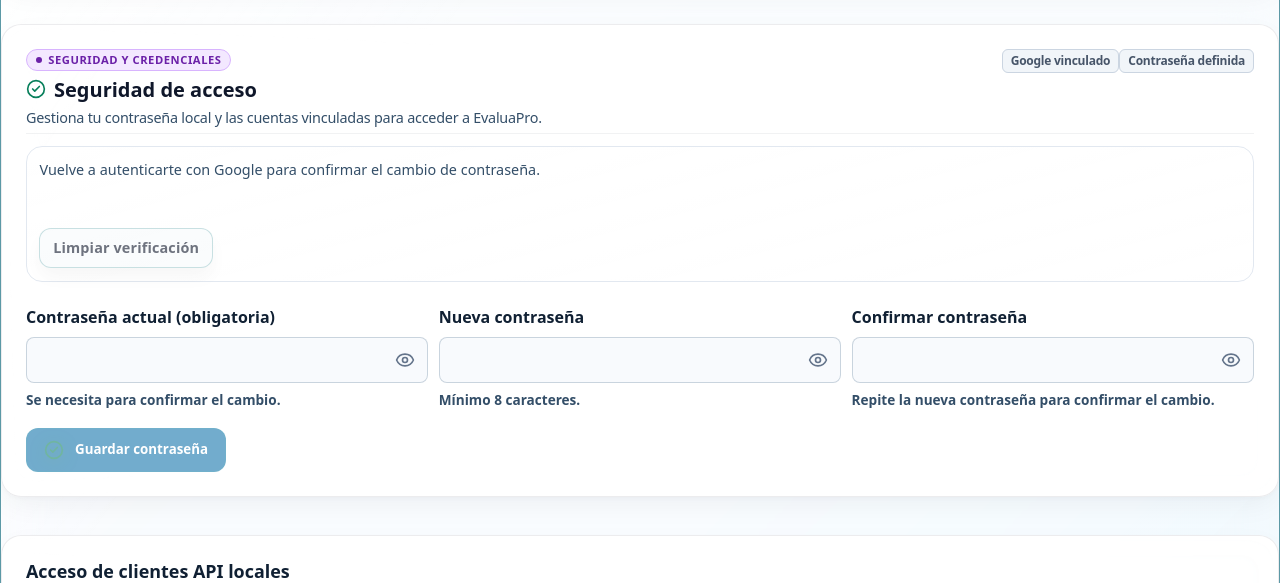
Test: SeccionCuenta › permite cambiar contraseña tras validar contraseña actual y coincidencia de 8+ caracteres
(page scrolled)
Expected: the button "Guardar contraseña" is disabled, [26,428,226,472]
Expected: the text "Se necesita para confirmar el cambio." is shown, [26,390,280,410]
In the password field labelled "Contraseña actual (obligatoria)": (227, 360) [26,337,428,383], type "PasswordAnterior123"
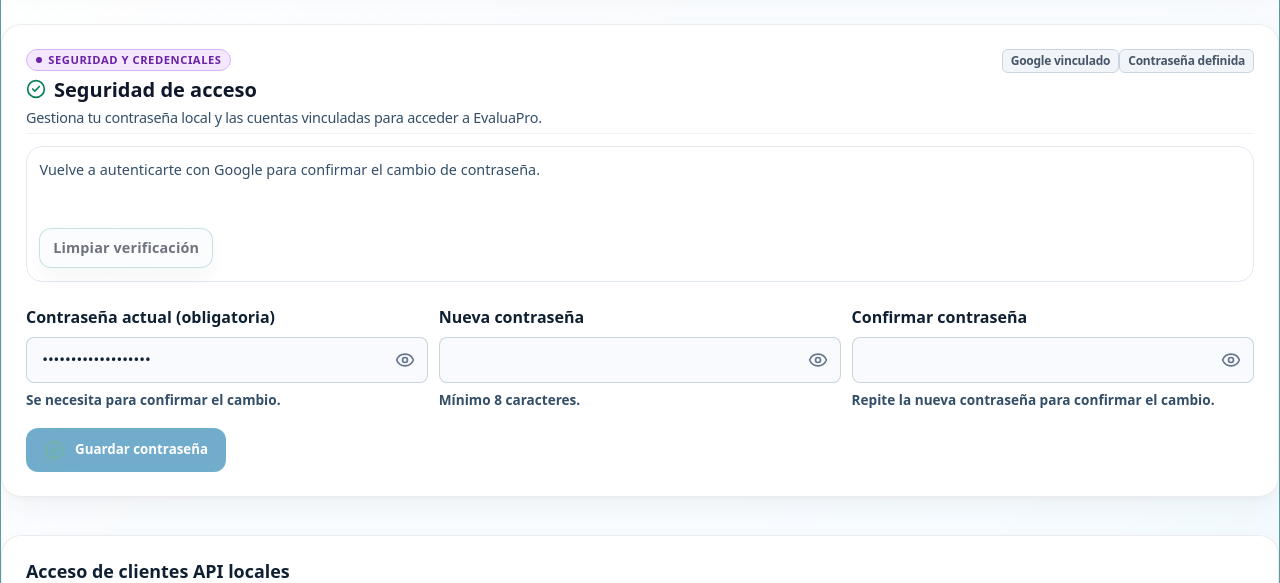
In the password field labelled "Nueva contraseña": (640, 360) [439,337,841,383], type "corta"
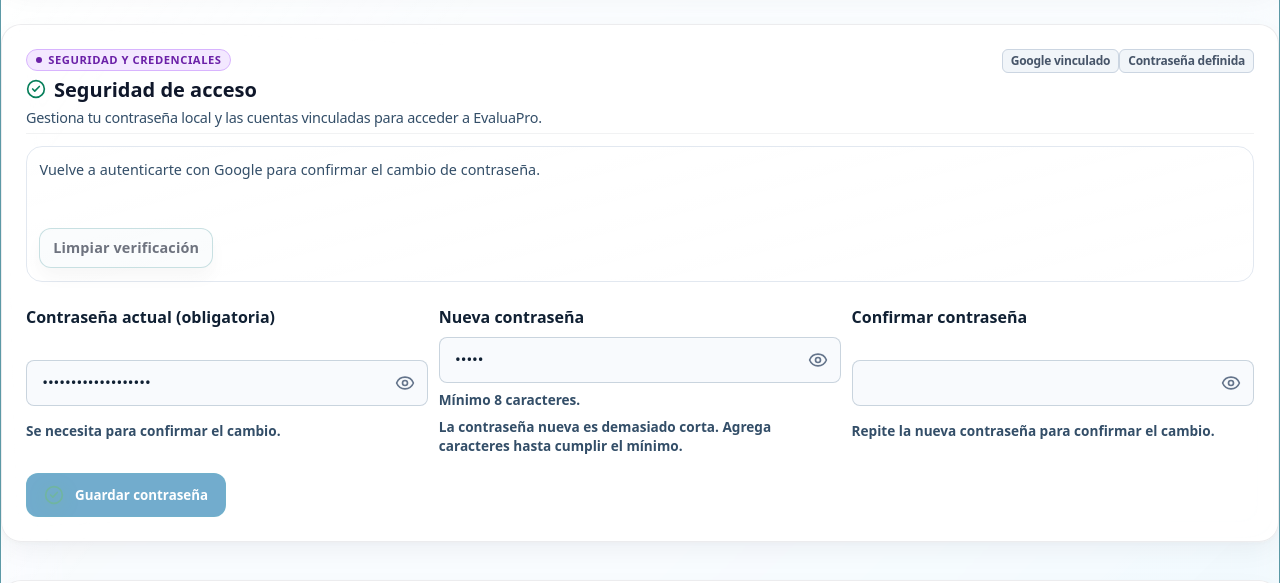
Expected: the button "Guardar contraseña" is disabled, [26,473,226,517]
Result: the password field labelled "Nueva contraseña" is marked as invalid
In the password field labelled "Nueva contraseña": (640, 360) [439,337,841,383], type "NuevaClaveSegura2026"
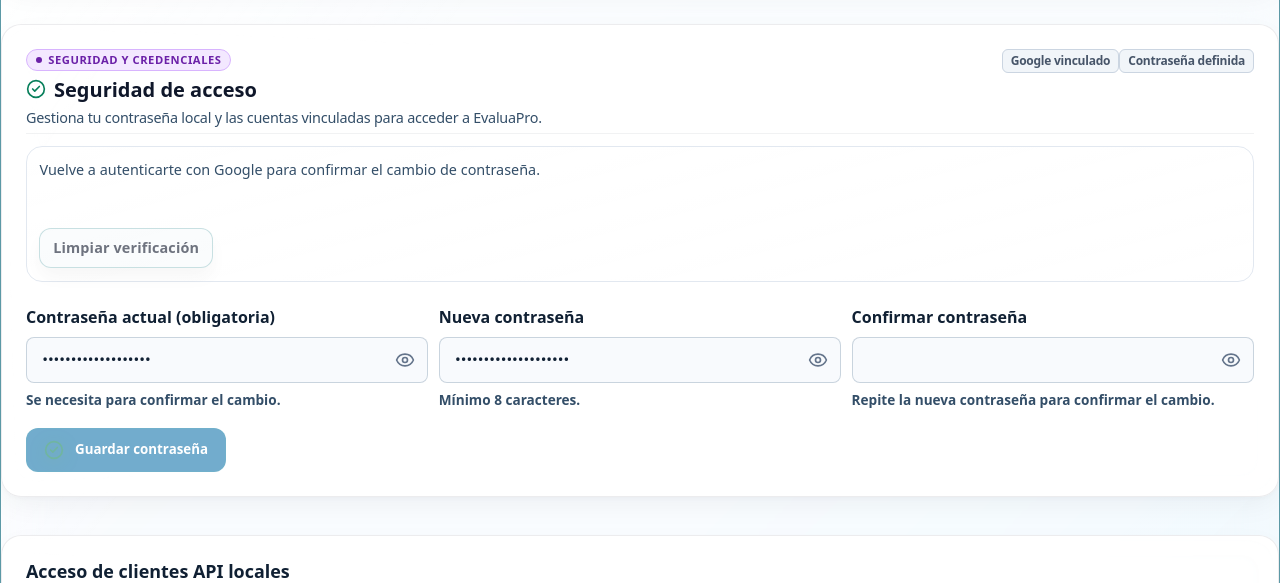
Result: the password field labelled "Nueva contraseña" does not have attribute aria-invalid="true" at [439,337,841,383]
In the password field labelled "Confirmar contraseña": (1053, 360) [852,337,1254,383], type "Clave distinta de prueba"
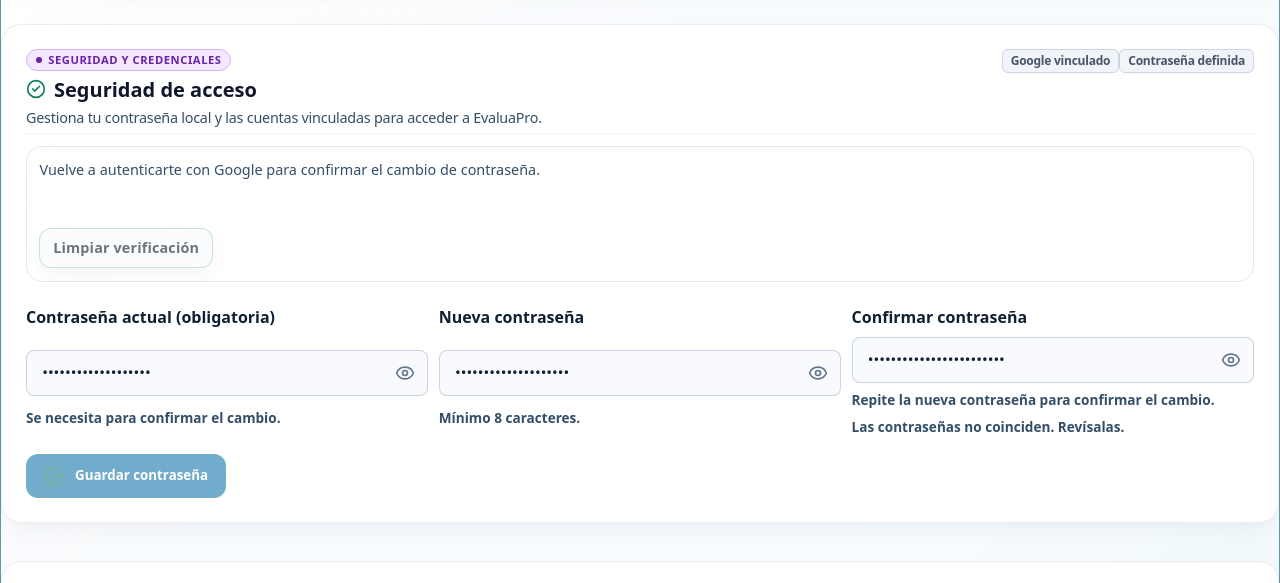
Expected: the text "Repite la nueva contraseña para confirmar el cambio." is shown, [852,390,1254,410]
Result: the text "Las contraseñas no coinciden. Revísalas." is shown at [852,417,1124,436]
In the password field labelled "Confirmar contraseña": (1053, 360) [852,337,1254,383], type "NuevaClaveSegura2026"
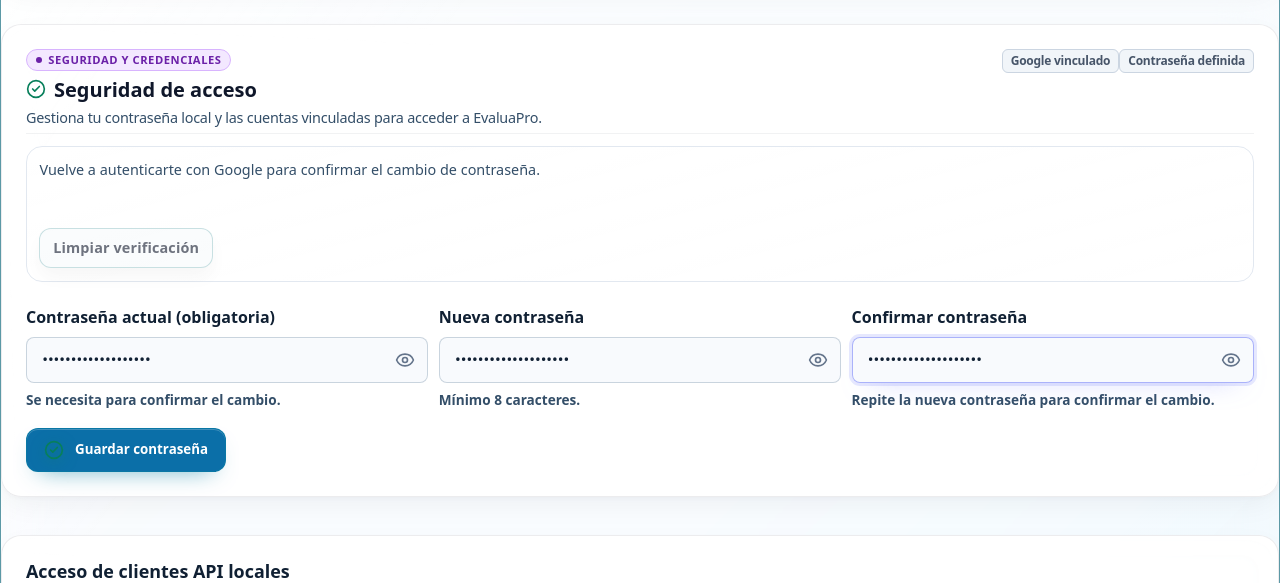
Expected: the text "Repite la nueva contraseña para confirmar el cambio." is shown, [852,390,1254,410]
Result: the button "Guardar contraseña" is enabled at [26,428,226,472]
Press Enter
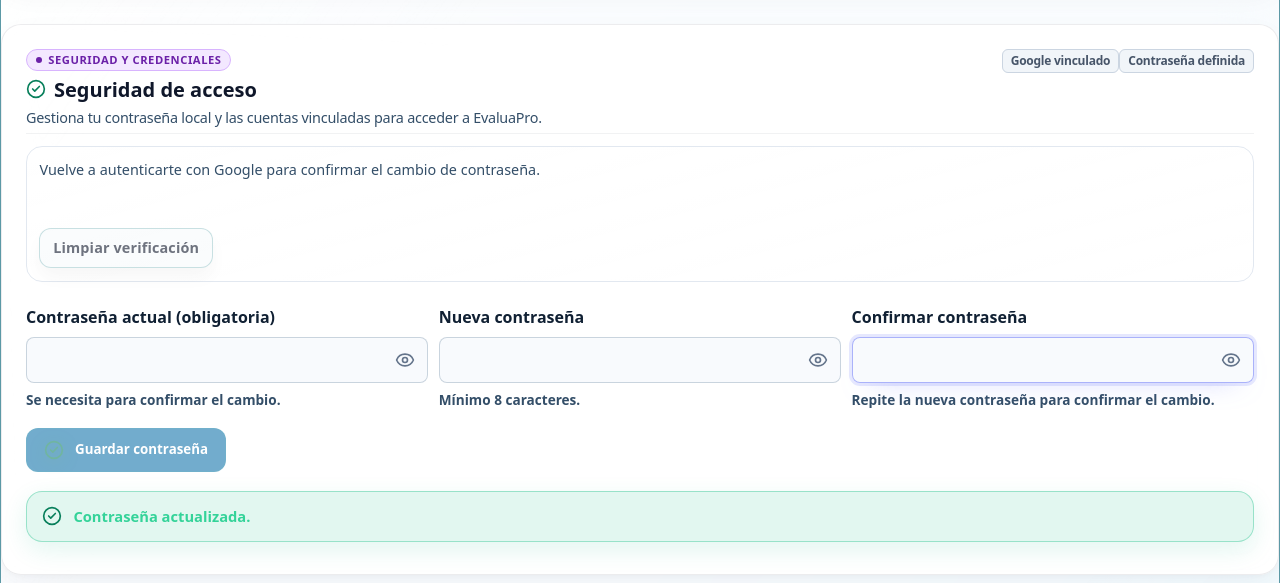
Result: the text "Contraseña actualizada." is shown at [26,491,1254,542]
